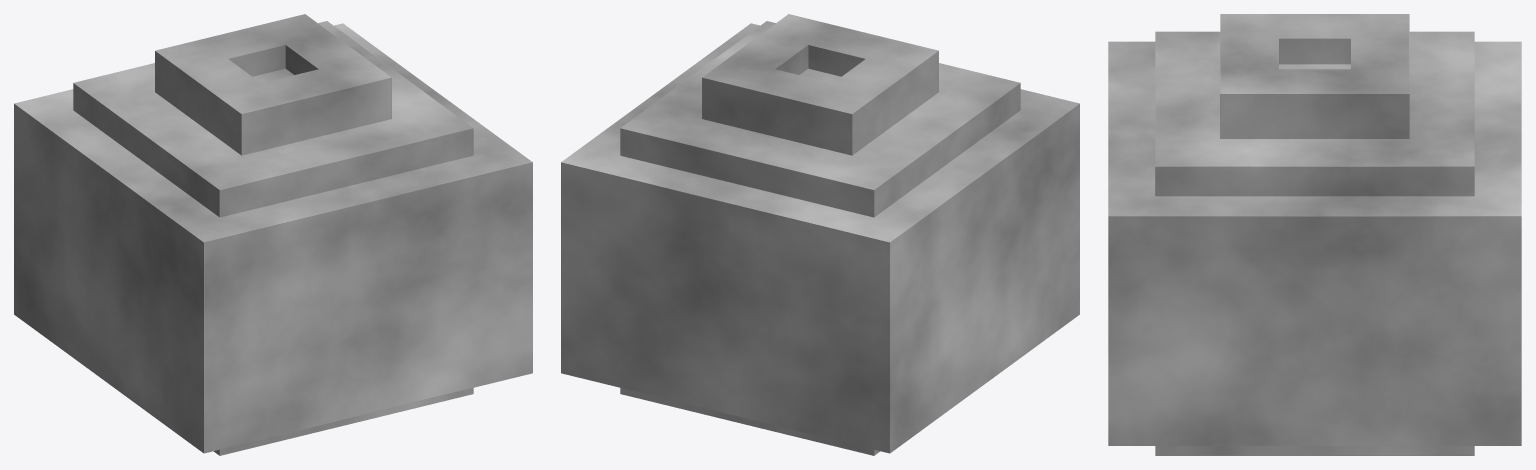
3 renders of one model, left to right at view 1: azimuth 30°, elevation 25°; view 2: azimuth 150°, elevation 25°; view 3: azimuth 270°, elevation 25°, orthographic. The views are drawn at different scales.
Visible parts, largest first — view 1: Cube; view 2: Cube; view 3: Cube.
Part boxes in pixels (box(x1,y1,x2,y2)): Cube: box(14, 14, 532, 455); Cube: box(561, 14, 1079, 455); Cube: box(1108, 14, 1521, 455).
Bounding box in the file's own units: 2.59 × 2.31 × 2.59.
Materials: 1 (1 with a texture image).
